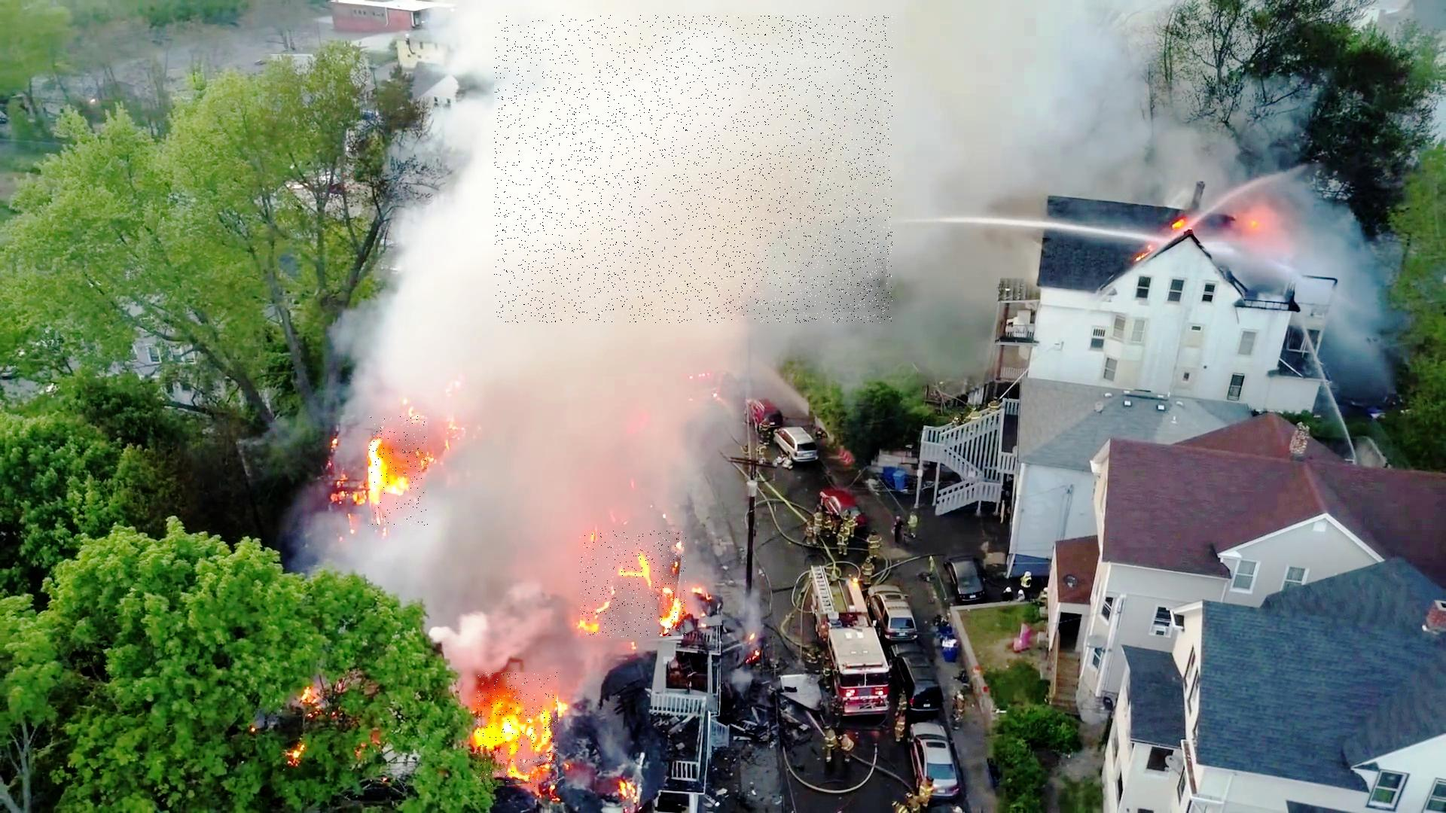fire: (580, 531, 686, 638), (477, 672, 558, 787), (368, 416, 428, 526)
smoke: (495, 15, 893, 323)
